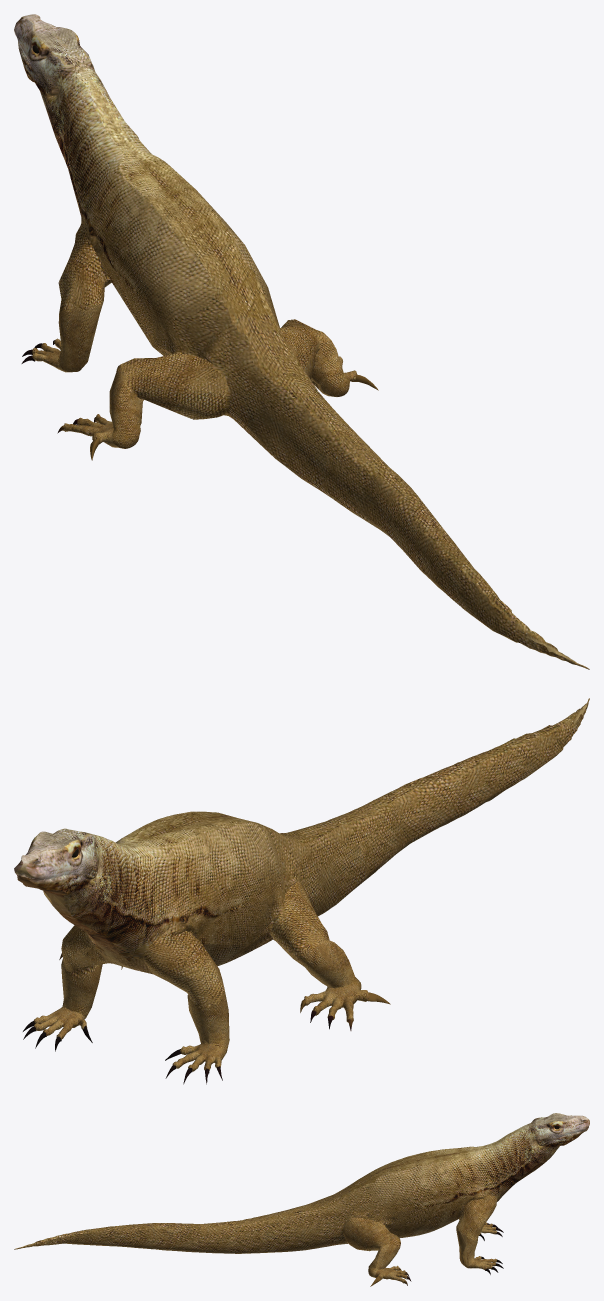
The model's file is KOMODO.obj.
3 views of the same model, one above another, from view 1: azimuth 30°, elevation 25°; view 2: azimuth 150°, elevation 25°; view 3: azimuth 270°, elevation 25° (orthographic). The views are drawn at different scales.
Parts seen in each view (by area): view 1: KOMODOL; view 2: KOMODOL; view 3: KOMODOL.
Part boxes in pixels (box(x1,y1,x2,y2)): KOMODOL: box(14, 14, 589, 669); KOMODOL: box(14, 698, 589, 1071); KOMODOL: box(14, 1113, 589, 1283).
Size of the model in its own units: 3020 by 2625 by 10182.
Materials: 19 (16 with a texture image).
